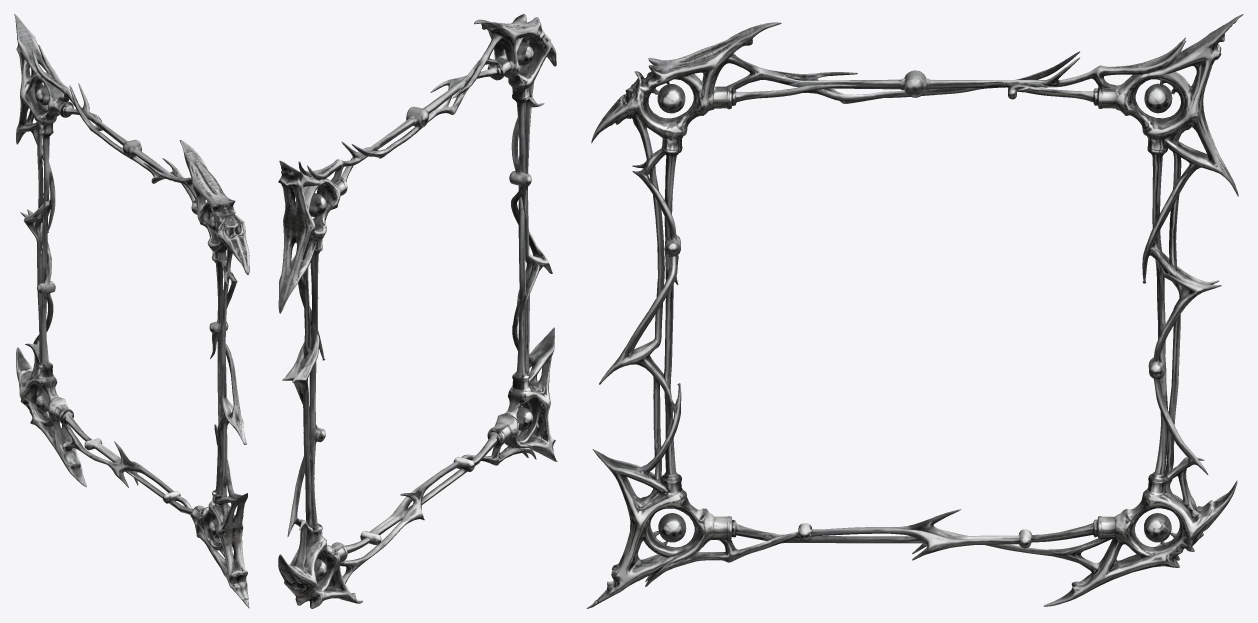
Rendered from cover-detail-frame.glb.
3 renders of one model, left to right at view 1: azimuth 30°, elevation 25°; view 2: azimuth 150°, elevation 25°; view 3: azimuth 270°, elevation 25°, orthographic. The views are drawn at different scales.
Parts seen in each view (by area): view 1: tripo_node_c08a9322-963c-412a-82d2-8f5e3a829905; view 2: tripo_node_c08a9322-963c-412a-82d2-8f5e3a829905; view 3: tripo_node_c08a9322-963c-412a-82d2-8f5e3a829905.
Part boxes in pixels (<box>): tripo_node_c08a9322-963c-412a-82d2-8f5e3a829905: <box>14,14,249,608</box>; tripo_node_c08a9322-963c-412a-82d2-8f5e3a829905: <box>278,14,557,608</box>; tripo_node_c08a9322-963c-412a-82d2-8f5e3a829905: <box>586,14,1243,608</box>.
Size of the model in its own units: 0.069 by 0.9814 by 0.9834.
1 material, 1 textured.
